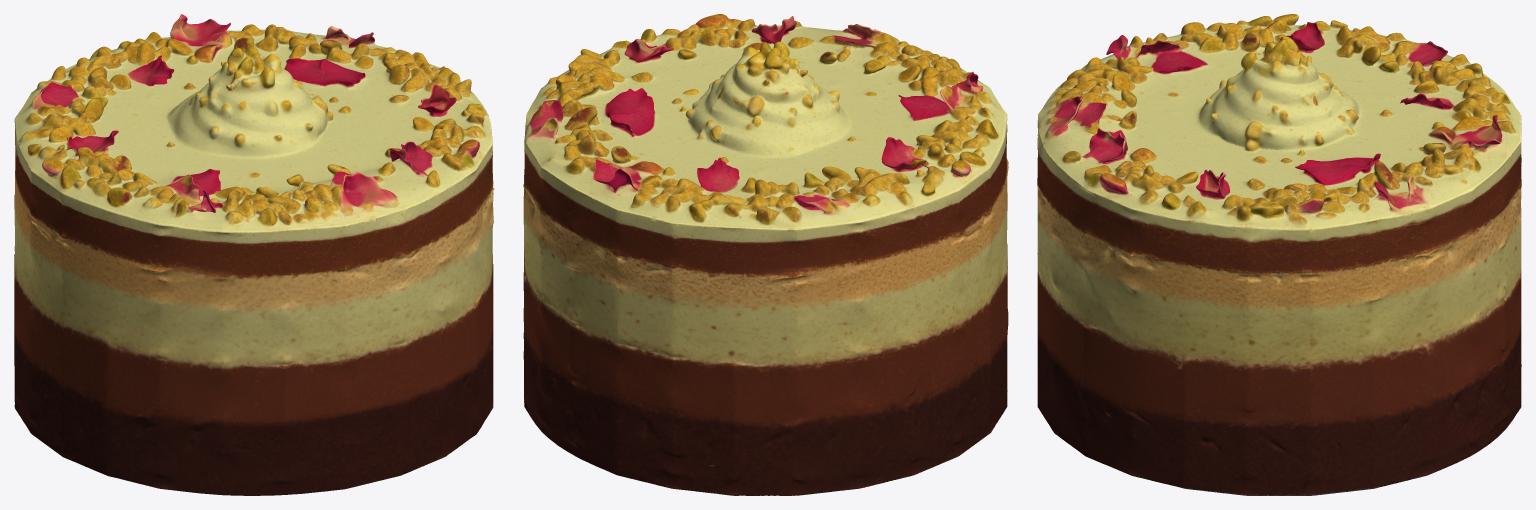
File: cakee5.glb
3 renders of one model, left to right at view 1: azimuth 30°, elevation 25°; view 2: azimuth 150°, elevation 25°; view 3: azimuth 270°, elevation 25°, orthographic.
Size of the model in its own units: 1.89 by 1.52 by 1.89.
1 material, 1 textured.
